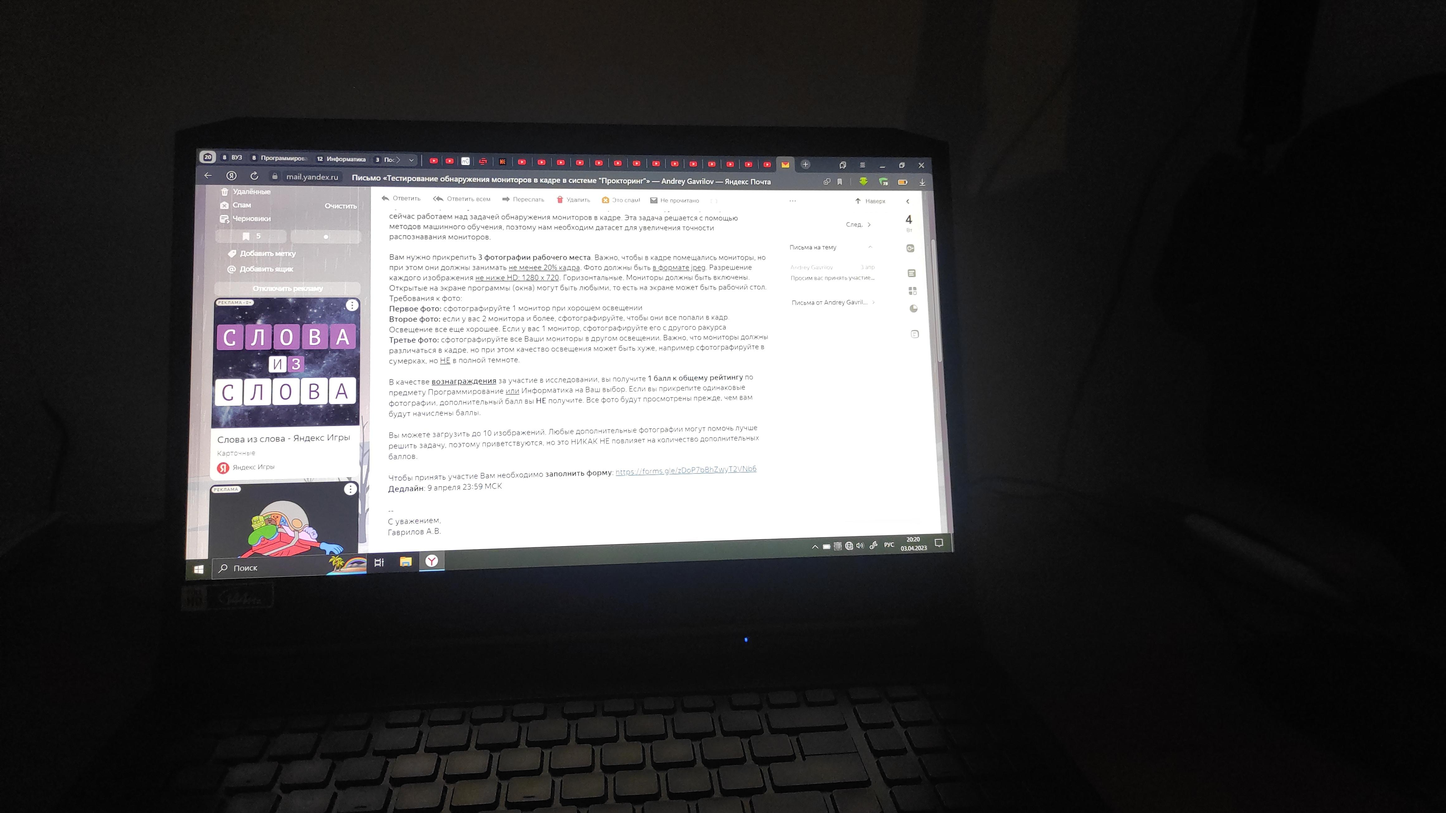monitor: (157, 117, 972, 656)
